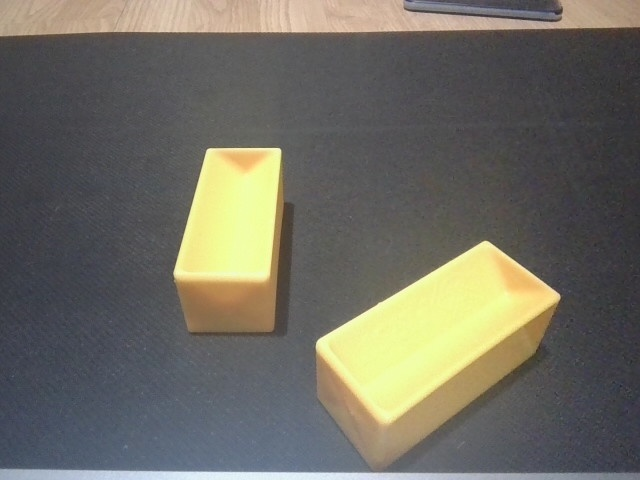YellowSample: (309, 238, 562, 470), (167, 141, 296, 338)
